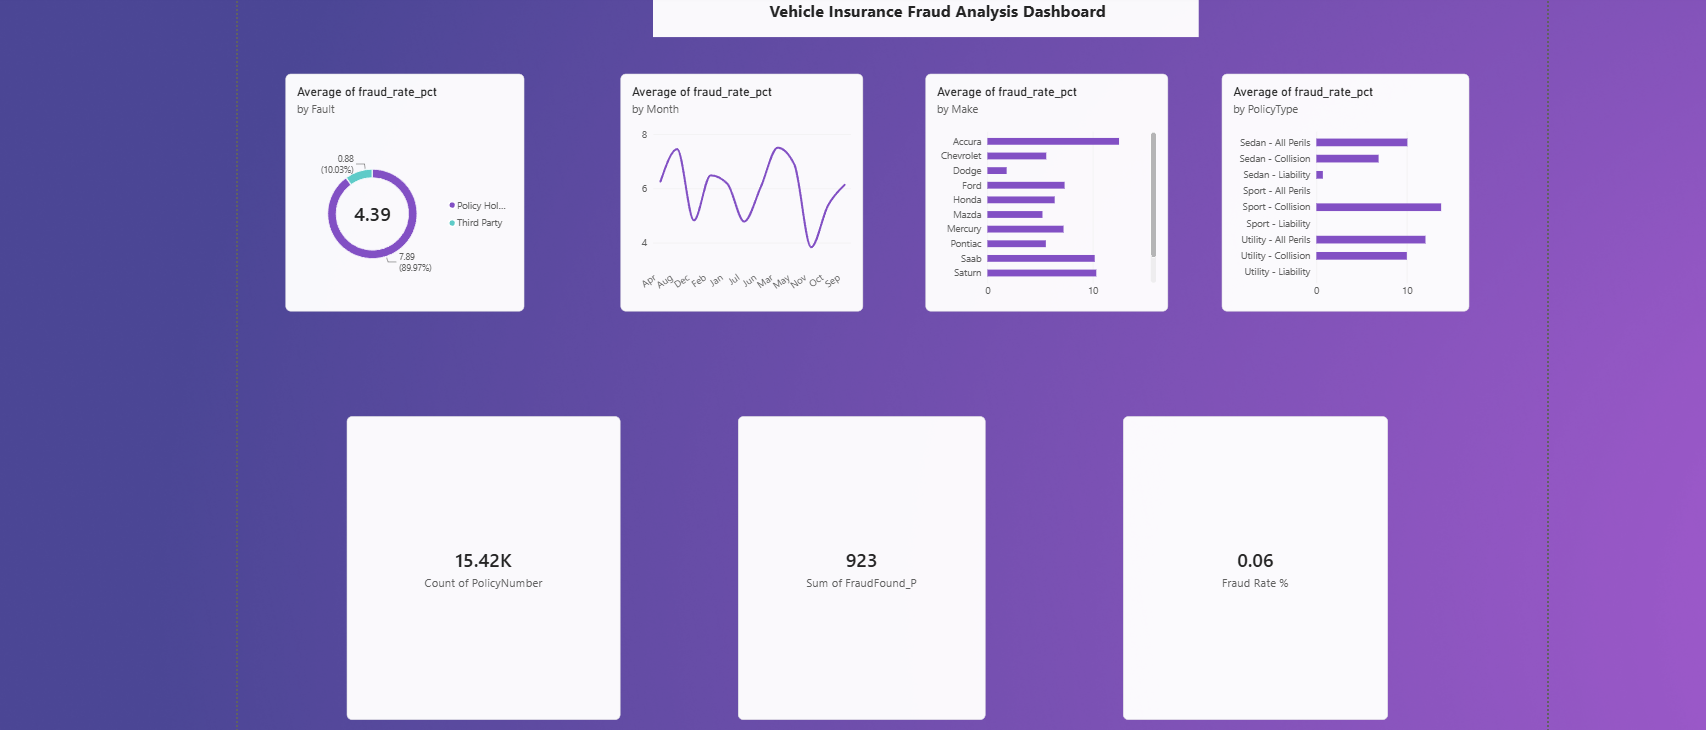

The page's visual inventory and layout, read from the dashboard file:
{"tool":"powerbi","page":{"name":"Page 1","canvas":[1920,1080],"ordinal":0},"visuals":[{"type":"card","fields":{"Values":["CountNonNull(claims_cleaned.PolicyNumber)"]},"box":[159.6,610.8,401.7,445.7],"z":0},{"type":"card","fields":{"Values":["Sum(claims_cleaned.FraudFound_P)"]},"box":[733.7,610.8,363.2,445.7],"z":1},{"type":"card","fields":{"Values":["claims_cleaned.Fraud Rate %"]},"box":[1298.6,610.8,388.9,445.7],"z":2},{"type":"donutChart","fields":{"Category":["fraud_by_fault.Fault"],"Y":["Avg(fraud_by_fault.fraud_rate_pct)"]},"box":[69.7,108.2,350.3,348.5],"z":3},{"type":"lineChart","fields":{"Category":["fraud_by_month.Month"],"Y":["Avg(fraud_by_month.fraud_rate_pct)"]},"box":[561.3,108.2,355.8,348.5],"z":4},{"type":"clusteredBarChart","fields":{"Category":["fraud_by_make.Make"],"Y":["Avg(fraud_by_make.fraud_rate_pct)"]},"box":[1008.8,108.2,355.8,348.5],"z":5},{"type":"clusteredBarChart","fields":{"Category":["fraud_by_policytype.PolicyType"],"Y":["Avg(fraud_by_policytype.fraud_rate_pct)"]},"box":[1443.6,108.2,363.2,348.5],"z":6},{"type":"textbox","box":[608.1,0,800.7,54.1],"z":7}]}

Visuals, with their boxes in screenshot pixels (x1, y1, x2, y2):
card - CountNonNull(claims_cleaned.PolicyNumber): {"left": 337, "top": 412, "right": 614, "bottom": 720}
card - Sum(claims_cleaned.FraudFound_P): {"left": 733, "top": 412, "right": 983, "bottom": 720}
card - claims_cleaned.Fraud Rate %: {"left": 1122, "top": 412, "right": 1391, "bottom": 720}
donutChart - fraud_by_fault.Fault x Avg(fraud_by_fault.fraud_rate_pct): {"left": 275, "top": 66, "right": 516, "bottom": 306}
lineChart - fraud_by_month.Month x Avg(fraud_by_month.fraud_rate_pct): {"left": 614, "top": 66, "right": 859, "bottom": 306}
clusteredBarChart - fraud_by_make.Make x Avg(fraud_by_make.fraud_rate_pct): {"left": 922, "top": 66, "right": 1168, "bottom": 306}
clusteredBarChart - fraud_by_policytype.PolicyType x Avg(fraud_by_policytype.fraud_rate_pct): {"left": 1222, "top": 66, "right": 1473, "bottom": 306}
textbox: {"left": 646, "top": 0, "right": 1198, "bottom": 28}
